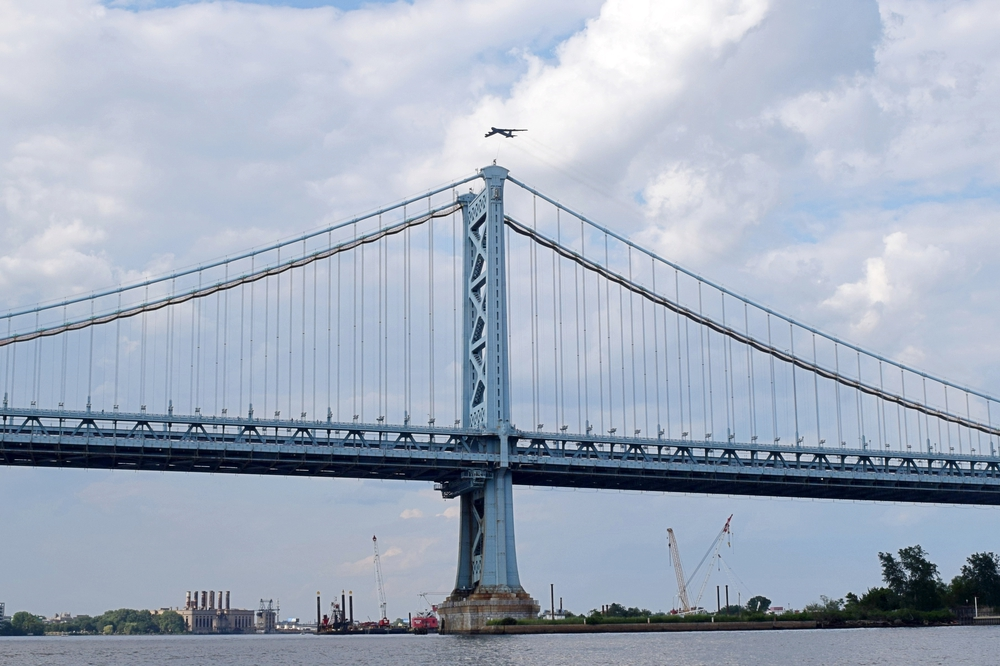B52: (483, 126, 529, 139)
